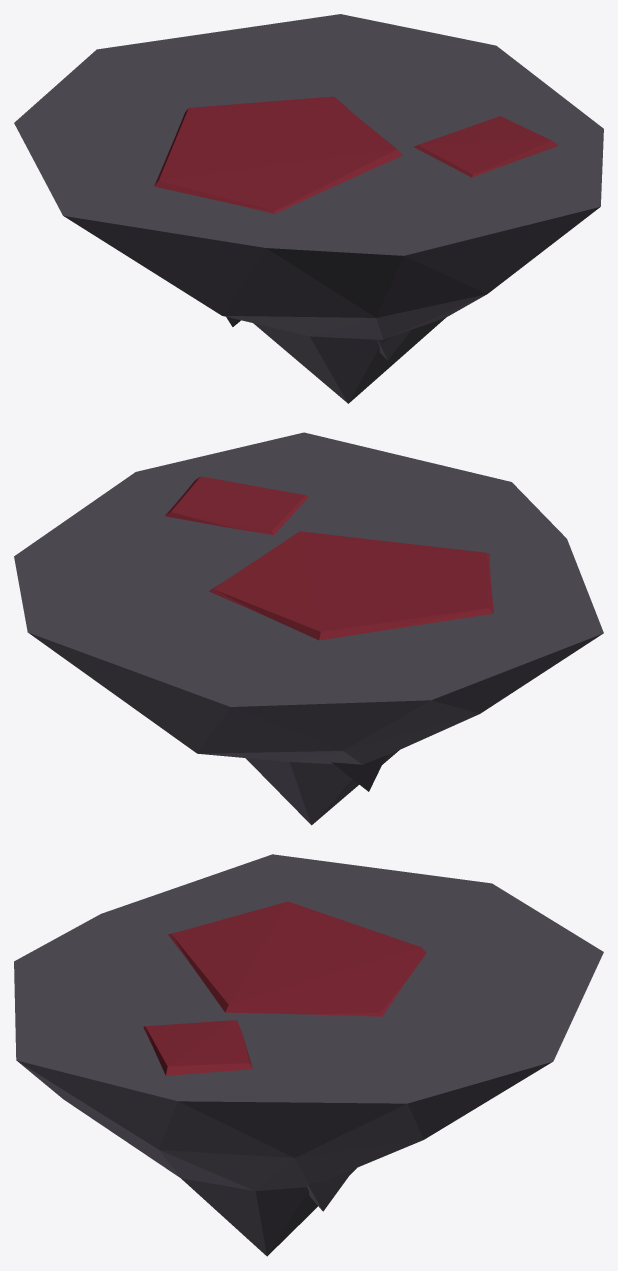
The model's file is DA_FloatRock.fbx.
3 renders of one model, top to bottom at view 1: azimuth 30°, elevation 25°; view 2: azimuth 150°, elevation 25°; view 3: azimuth 270°, elevation 25°, orthographic. The views are drawn at different scales.
Parts seen in each view (by area): view 1: DA_FloatRock_Rock, DA_FloatRock_Crust; view 2: DA_FloatRock_Rock, DA_FloatRock_Crust; view 3: DA_FloatRock_Rock, DA_FloatRock_Crust.
Boxes of the visible parts, x1,y1,x2,y2 form: DA_FloatRock_Rock: (14, 14, 603, 403); DA_FloatRock_Crust: (154, 96, 558, 213); DA_FloatRock_Rock: (14, 432, 603, 825); DA_FloatRock_Crust: (165, 476, 493, 640); DA_FloatRock_Rock: (14, 854, 603, 1256); DA_FloatRock_Crust: (143, 901, 426, 1075).
Bounding box in the file's own units: 12 × 6 × 12.
